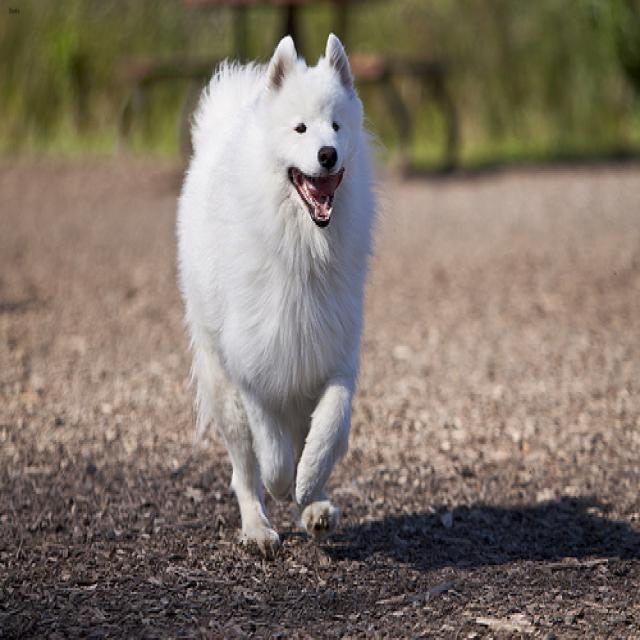dog-samoyed: (173, 21, 390, 565)
